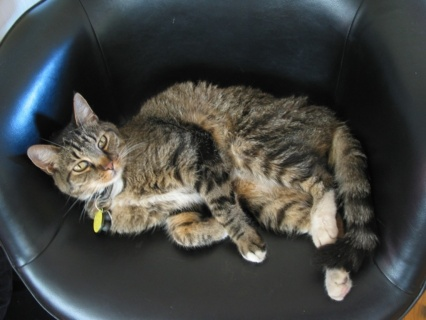Cat: (27, 79, 375, 304)
